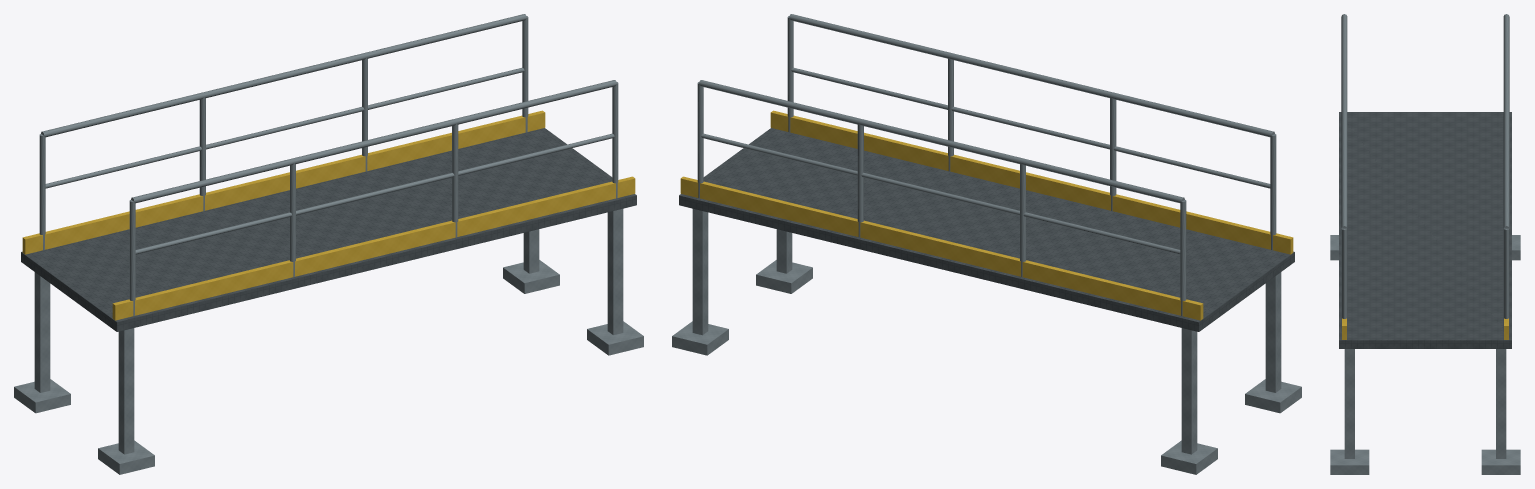
Rendered from PZ_CFW_07_Raised_ServiceWalkway_5m.glb.
3 renders of one model, left to right at view 1: azimuth 30°, elevation 25°; view 2: azimuth 150°, elevation 25°; view 3: azimuth 270°, elevation 25°, orthographic. The views are drawn at different scales.
Visible parts, largest first — view 1: SERVICE_WALK_WalkwayGrating, SERVICE_WALK_ToeKick_L, SERVICE_WALK_ToeKick_R, SERVICE_WALK_UpperHandrail_R, SERVICE_WALK_UpperHandrail_L, SERVICE_WALK_MidHandrail_L, SERVICE_WALK_MidHandrail_R, SERVICE_WALK_WalkwayLeg_1_0, SERVICE_WALK_WalkwayLeg_0_0, SERVICE_WALK_WalkwayLeg_0_1, SERVICE_WALK_WalkwayFoot_0_0, SERVICE_WALK_WalkwayFoot_1_0 (+9 smaller); view 2: SERVICE_WALK_WalkwayGrating, SERVICE_WALK_ToeKick_R, SERVICE_WALK_ToeKick_L, SERVICE_WALK_UpperHandrail_L, SERVICE_WALK_UpperHandrail_R, SERVICE_WALK_MidHandrail_R, SERVICE_WALK_MidHandrail_L, SERVICE_WALK_WalkwayLeg_1_1, SERVICE_WALK_WalkwayLeg_0_1, SERVICE_WALK_WalkwayLeg_0_0, SERVICE_WALK_WalkwayFoot_0_1, SERVICE_WALK_WalkwayFoot_1_0 (+9 smaller); view 3: SERVICE_WALK_WalkwayGrating, SERVICE_WALK_UpperHandrail_L, SERVICE_WALK_UpperHandrail_R, SERVICE_WALK_WalkwayLeg_1_0, SERVICE_WALK_WalkwayLeg_1_1, SERVICE_WALK_WalkwayFoot_1_0, SERVICE_WALK_WalkwayFoot_1_1, SERVICE_WALK_SafetyPost_L_3, SERVICE_WALK_SafetyPost_R_3, SERVICE_WALK_WalkwayFoot_0_0, SERVICE_WALK_WalkwayFoot_0_1.
Part boxes in pixels (x1,y1,x2,y2): SERVICE_WALK_WalkwayGrating: (21,128,636,331); SERVICE_WALK_ToeKick_L: (112,176,635,320); SERVICE_WALK_ToeKick_R: (22,110,545,254); SERVICE_WALK_UpperHandrail_R: (41,14,526,137); SERVICE_WALK_UpperHandrail_L: (131,80,616,203); SERVICE_WALK_MidHandrail_L: (135,133,614,254); SERVICE_WALK_MidHandrail_R: (45,67,524,188); SERVICE_WALK_WalkwayLeg_1_0: (607,208,623,335); SERVICE_WALK_WalkwayLeg_0_0: (118,328,134,454); SERVICE_WALK_WalkwayLeg_0_1: (34,272,50,392); SERVICE_WALK_WalkwayFoot_0_0: (98,440,154,474); SERVICE_WALK_WalkwayFoot_1_0: (587,321,643,355); SERVICE_WALK_WalkwayGrating: (679,128,1294,331); SERVICE_WALK_ToeKick_R: (680,176,1203,320); SERVICE_WALK_ToeKick_L: (770,110,1293,254); SERVICE_WALK_UpperHandrail_L: (789,14,1274,137); SERVICE_WALK_UpperHandrail_R: (699,80,1184,203); SERVICE_WALK_MidHandrail_R: (701,133,1180,254); SERVICE_WALK_MidHandrail_L: (791,67,1270,188); SERVICE_WALK_WalkwayLeg_1_1: (692,208,708,335); SERVICE_WALK_WalkwayLeg_0_1: (1181,328,1197,454); SERVICE_WALK_WalkwayLeg_0_0: (1265,272,1281,392); SERVICE_WALK_WalkwayFoot_0_1: (1161,440,1217,474); SERVICE_WALK_WalkwayFoot_1_0: (756,260,812,293); SERVICE_WALK_WalkwayGrating: (1339,112,1511,348); SERVICE_WALK_UpperHandrail_L: (1341,14,1347,228); SERVICE_WALK_UpperHandrail_R: (1503,14,1509,228); SERVICE_WALK_WalkwayLeg_1_0: (1344,349,1354,458); SERVICE_WALK_WalkwayLeg_1_1: (1496,349,1506,458); SERVICE_WALK_WalkwayFoot_1_0: (1330,449,1369,474); SERVICE_WALK_WalkwayFoot_1_1: (1481,449,1520,474); SERVICE_WALK_SafetyPost_L_3: (1341,228,1347,331); SERVICE_WALK_SafetyPost_R_3: (1503,228,1509,331); SERVICE_WALK_WalkwayFoot_0_0: (1330,235,1338,260); SERVICE_WALK_WalkwayFoot_0_1: (1512,235,1520,260).
Size of the model in its own units: 5.04 by 2.45 by 1.76.
Materials: 3 (3 with a texture image).
